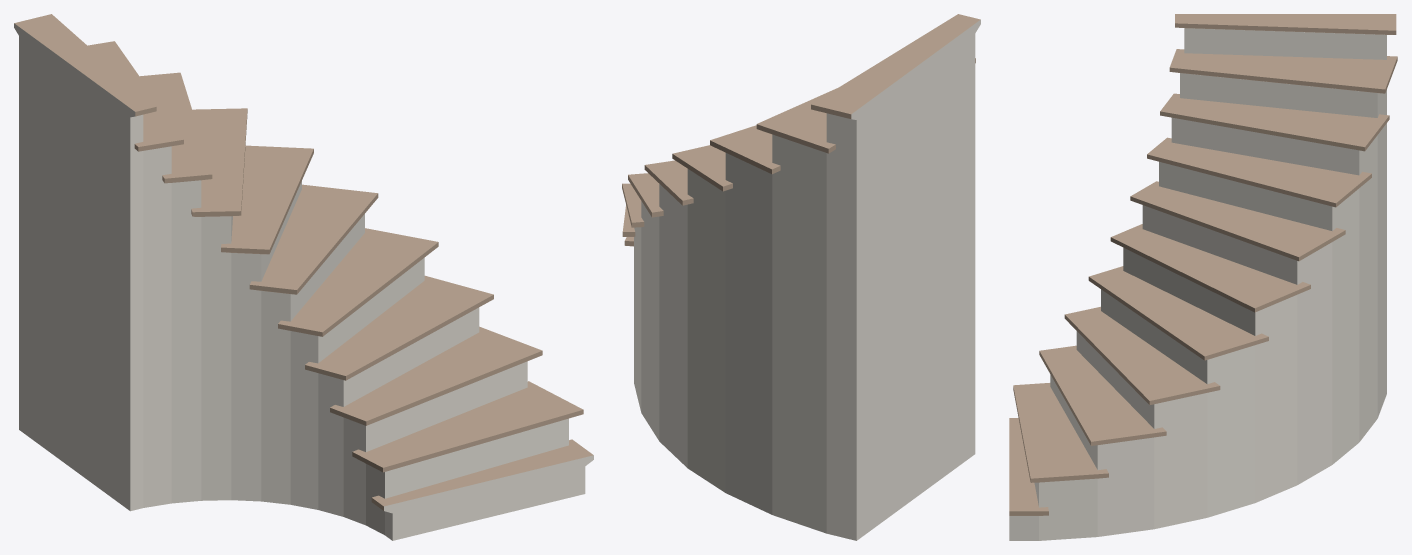
Rendered from Structure_Stairs_Curved.glb.
3 views of the same model, side by side, from view 1: azimuth 30°, elevation 25°; view 2: azimuth 150°, elevation 25°; view 3: azimuth 270°, elevation 25° (orthographic). The views are drawn at different scales.
Parts seen in each view (by area): view 1: Structure_Stairs_Curved; view 2: Structure_Stairs_Curved; view 3: Structure_Stairs_Curved.
Part boxes in pixels (box(x1,y1,x2,y2)): Structure_Stairs_Curved: box(14, 14, 593, 540); Structure_Stairs_Curved: box(622, 14, 980, 540); Structure_Stairs_Curved: box(1009, 14, 1397, 540).
Bounding box in the file's own units: 2.11 × 2.2 × 2.11.
